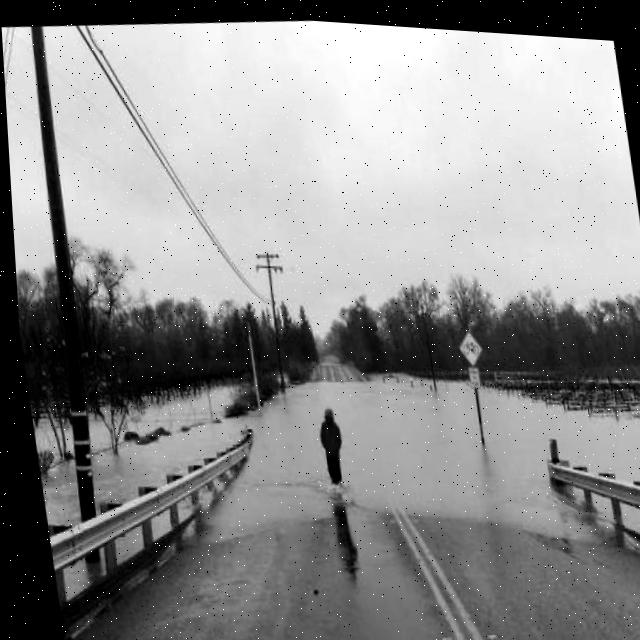civilian: (300, 394, 364, 498)
